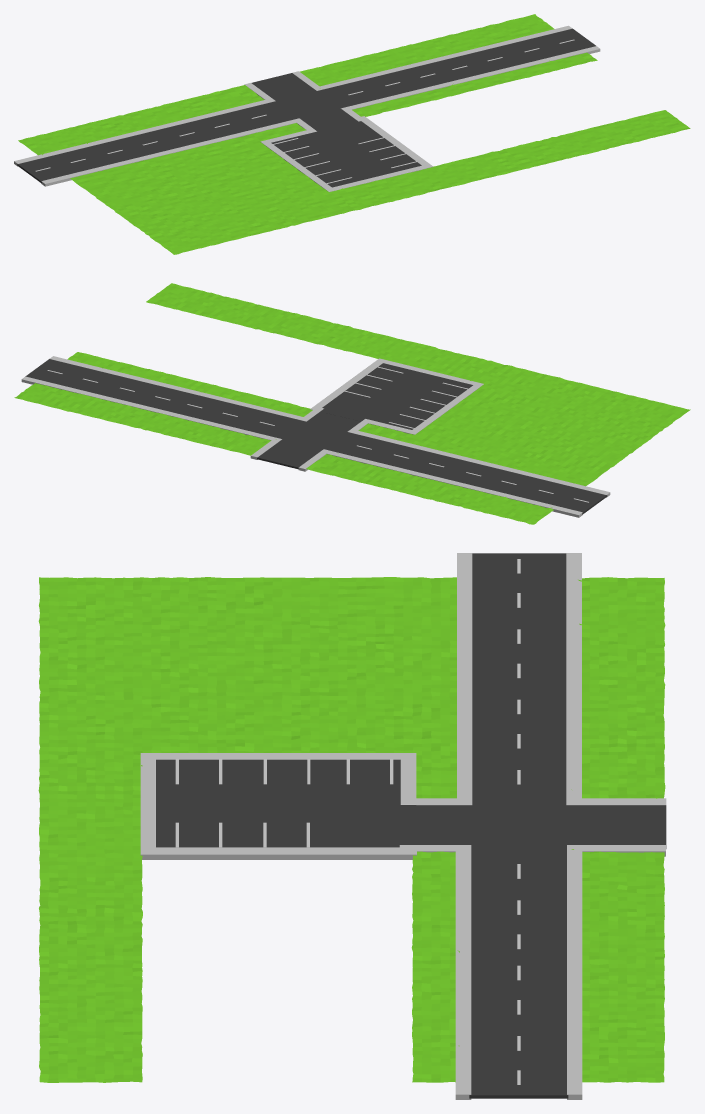
The model's file is parking_lot.fbx.
3 renders of one model, top to bottom at view 1: azimuth 30°, elevation 25°; view 2: azimuth 150°, elevation 25°; view 3: azimuth 270°, elevation 25°, orthographic. The views are drawn at different scales.
Visible parts, largest first — view 1: Plane, Cube.023, Cube.005, parkering, parkering_trottoar, Cube.024, Cube.006, Cube.003, Cube.007, Cube.009, Cube.025, Cube; view 2: Plane, Cube.023, Cube.005, parkering, parkering_trottoar, Cube.003, Cube.007, Cube.024, Cube.006, Cube.025, Cube.009, Cube; view 3: Plane, Cube.023, Cube.005, parkering, parkering_trottoar, Cube.006, Cube.007, Cube.003, Cube.025, Cube.009, Cube.024, Cube.
Part boxes in pixels (box(x1,y1,x2,y2)): Plane: box(18, 14, 690, 254); Cube.023: box(316, 28, 595, 108); Cube.005: box(17, 101, 297, 183); parkering: box(271, 118, 421, 187); parkering_trottoar: box(260, 116, 433, 192); Cube.024: box(41, 120, 296, 186); Cube.006: box(347, 46, 600, 109); Cube.003: box(14, 98, 275, 166); Cube.007: box(313, 25, 572, 90); Cube.009: box(275, 91, 340, 118); Cube.025: box(251, 73, 316, 100); Cube: box(301, 109, 353, 128); Plane: box(14, 283, 690, 524); Cube.023: box(25, 359, 307, 439); Cube.005: box(325, 432, 607, 514); parkering: box(320, 363, 472, 429); parkering_trottoar: box(310, 358, 483, 434); Cube.003: box(321, 449, 582, 517); Cube.007: box(21, 376, 281, 441); Cube.024: box(353, 430, 610, 497); Cube.006: box(50, 356, 303, 419); Cube.025: box(257, 439, 322, 469); Cube.009: box(283, 422, 347, 449); Cube: box(307, 411, 360, 431); Plane: box(38, 577, 665, 1082); Cube.023: box(469, 844, 568, 1098); Cube.005: box(472, 553, 566, 804); parkering: box(156, 759, 416, 847); parkering_trottoar: box(140, 753, 416, 859); Cube.006: box(455, 851, 471, 1099); Cube.007: box(567, 845, 582, 1099); Cube.003: box(566, 553, 581, 805); Cube.025: box(567, 805, 666, 848); Cube.009: box(469, 804, 567, 843); Cube.024: box(457, 553, 472, 798); Cube: box(416, 805, 469, 844).
Size of the model in its own units: 4341 by 21.19 by 2124.
